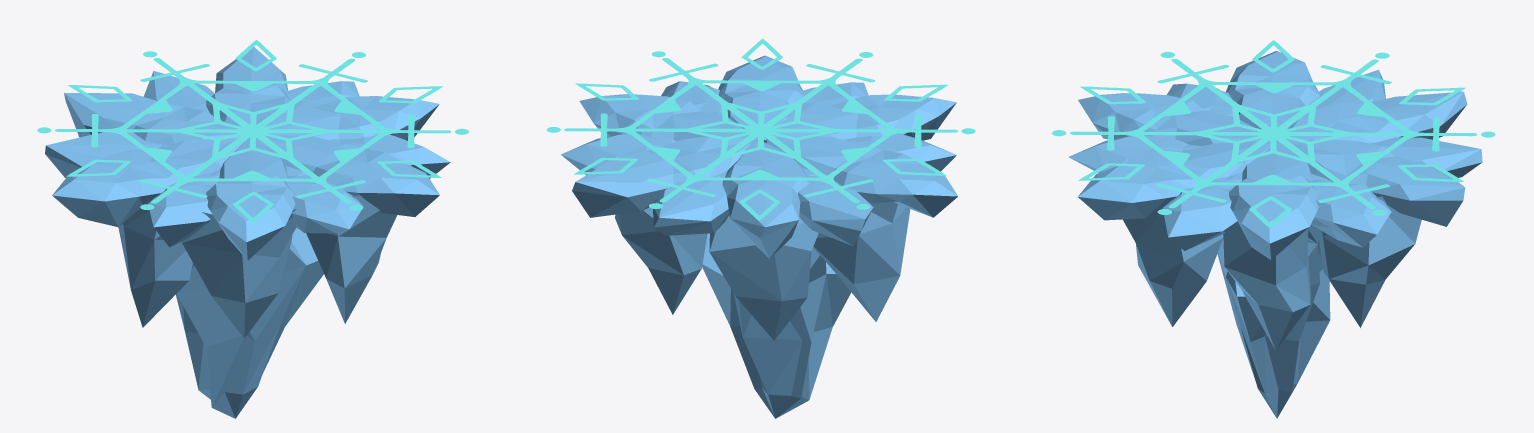
File: connect 1.fbx
3 views of the same model, side by side, from view 1: azimuth 30°, elevation 25°; view 2: azimuth 150°, elevation 25°; view 3: azimuth 270°, elevation 25° (orthographic). The views are drawn at different scales.
Parts seen in each view (by area): view 1: connect, connect_ice; view 2: connect, connect_ice; view 3: connect, connect_ice.
Part boxes in pixels (box(x1,y1,x2,y2)): connect: box(45, 47, 450, 418); connect_ice: box(37, 40, 468, 222); connect: box(561, 55, 957, 418); connect_ice: box(546, 38, 975, 220); connect: box(1068, 51, 1482, 418); connect_ice: box(1052, 40, 1495, 228).
Size of the model in its own units: 288 by 164 by 249.
2 materials, 2 textured.
